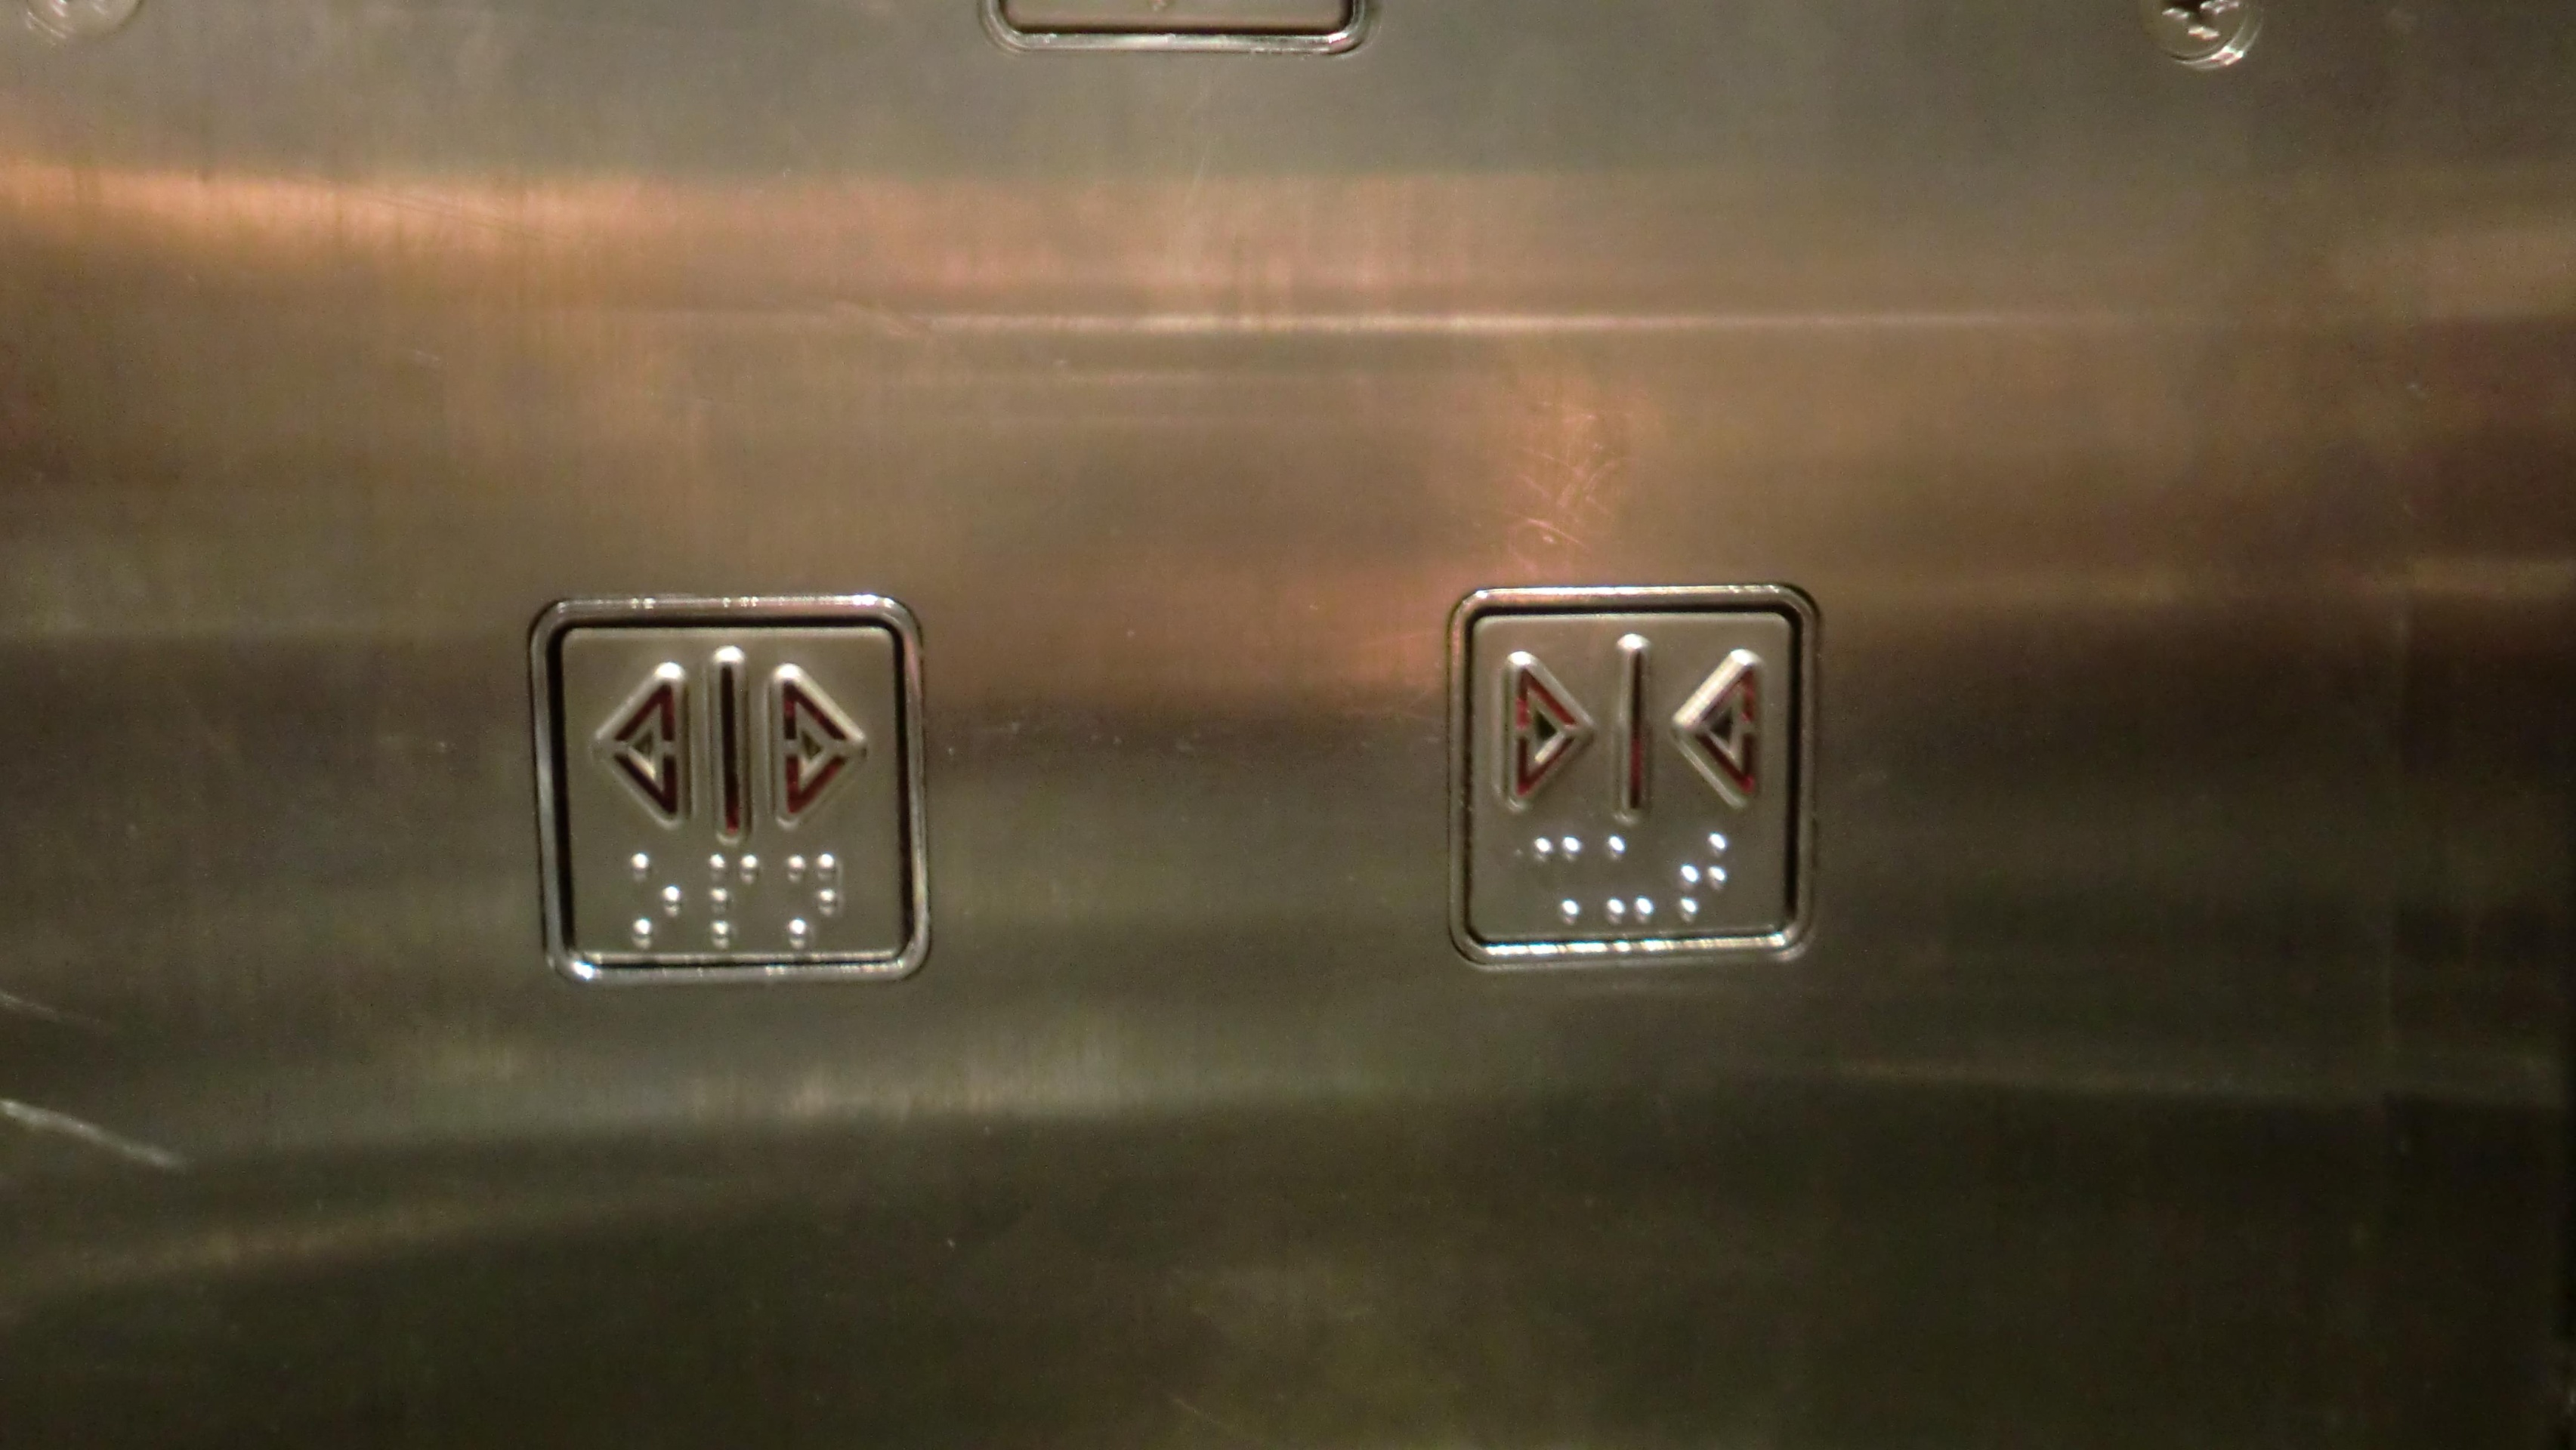close: (1435, 571, 1833, 988)
open: (517, 582, 941, 999)
